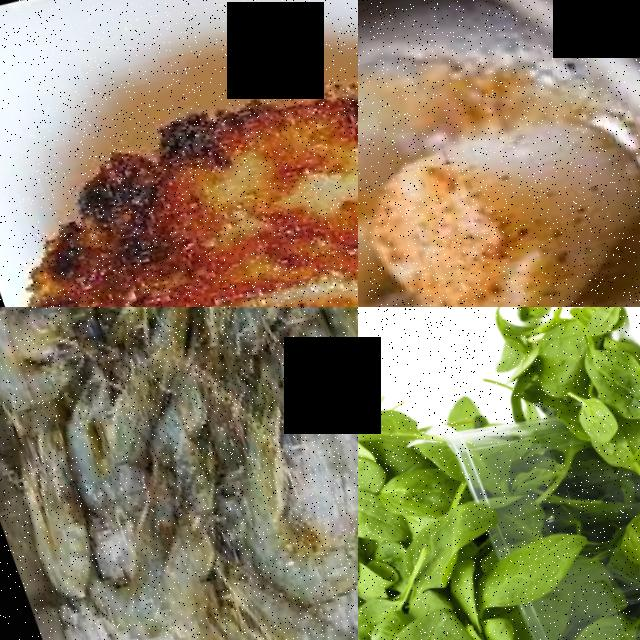sea scallops: (0, 0, 358, 307), (358, 78, 640, 307)
shrimp: (215, 396, 358, 609), (0, 429, 107, 604), (134, 522, 261, 640), (0, 307, 94, 423), (51, 404, 116, 516), (264, 583, 358, 640), (234, 307, 339, 337)
spinach: (464, 508, 605, 612), (373, 454, 455, 526), (363, 595, 492, 640), (582, 330, 640, 408), (546, 596, 640, 640), (358, 392, 421, 447), (608, 493, 640, 566), (358, 478, 387, 548)
